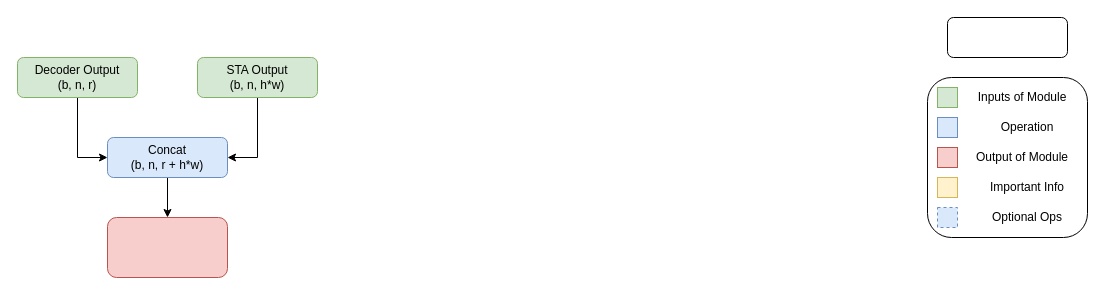
The diagram is 1105 pixels wide and 295 high, and some of its shapes have lost their labels. The box of each missing label's shape, as (x1, y1, x2, y2) in pixels:
Dense A = softmax (b, n, Vocab size): (106, 216, 228, 278)
v 1.0: (946, 16, 1068, 58)
